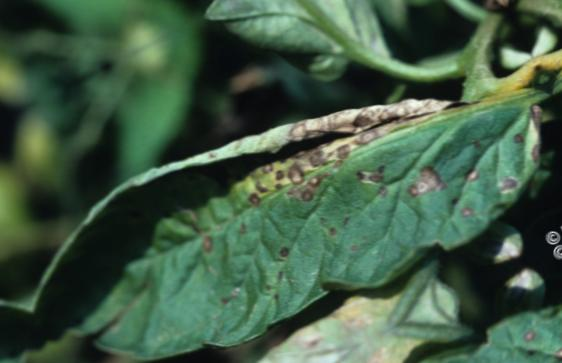Tomato Septoria leaf spot: (3, 0, 562, 363)
